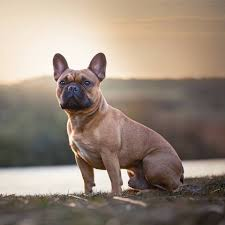Bulldog: (30, 40, 203, 204)
